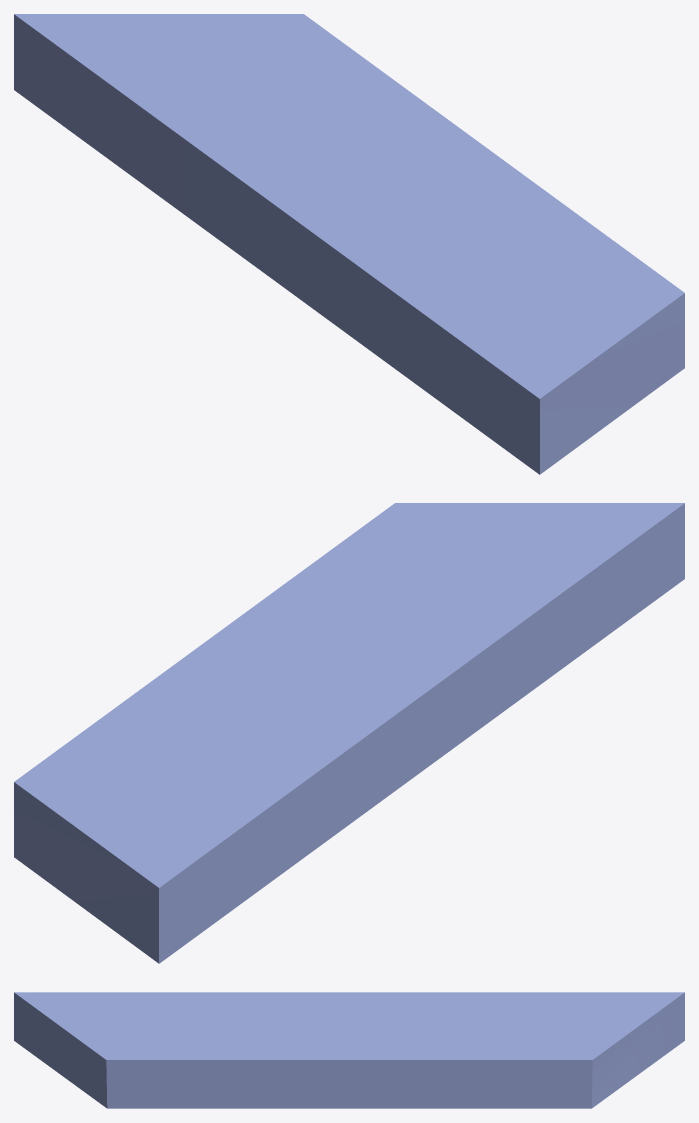
File: chairColMiddle_2.fbx
The picture shows the model from 3 angles, top to bottom: view 1: azimuth 30°, elevation 25°; view 2: azimuth 150°, elevation 25°; view 3: azimuth 270°, elevation 25°; orthographic projection. The views are drawn at different scales.
Visible parts, largest first — view 1: chairColMiddle2; view 2: chairColMiddle2; view 3: chairColMiddle2.
Boxes of the visible parts, bbox=[...] form: chairColMiddle2: bbox=[14, 14, 684, 474]; chairColMiddle2: bbox=[14, 503, 684, 963]; chairColMiddle2: bbox=[14, 992, 684, 1108].
Size of the model in its own units: 0.8682 by 0.2885 by 3.62.
